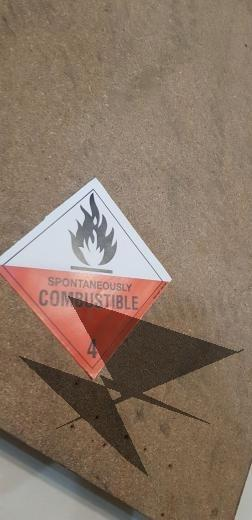spontaneously-combustible: (1, 176, 172, 377)
